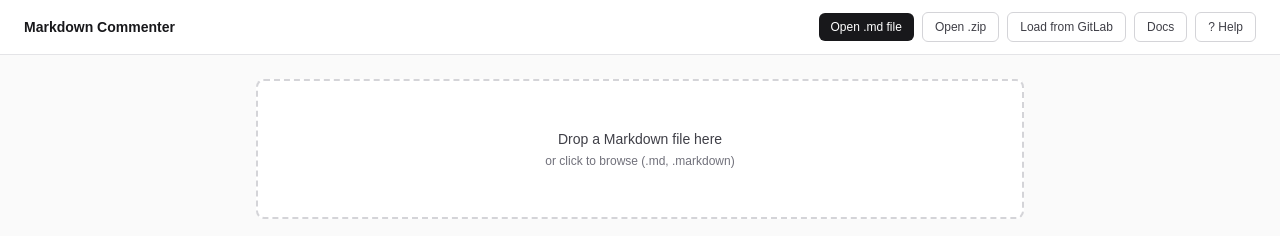
Test: Home page — Docs nav › shows the Docs control with both entries after opening the menu
Click the button "Docs".
click(1161, 27)  # box [1134, 12, 1187, 42]
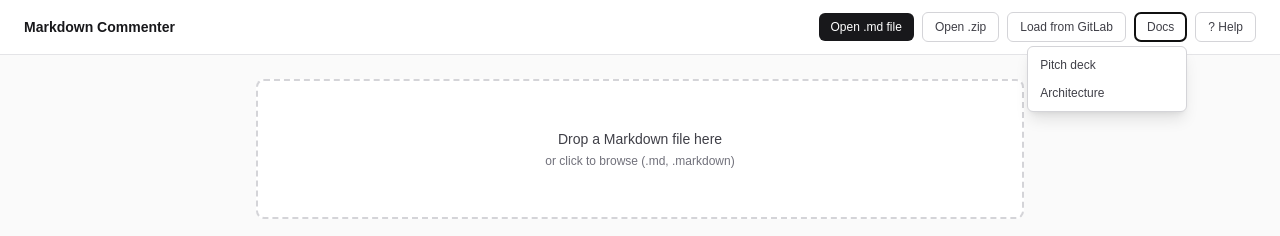
expect the menu item "Pitch deck" is shown: met, box [1028, 51, 1186, 79]
expect the menu item "Architecture" is shown: met, box [1028, 79, 1186, 107]
